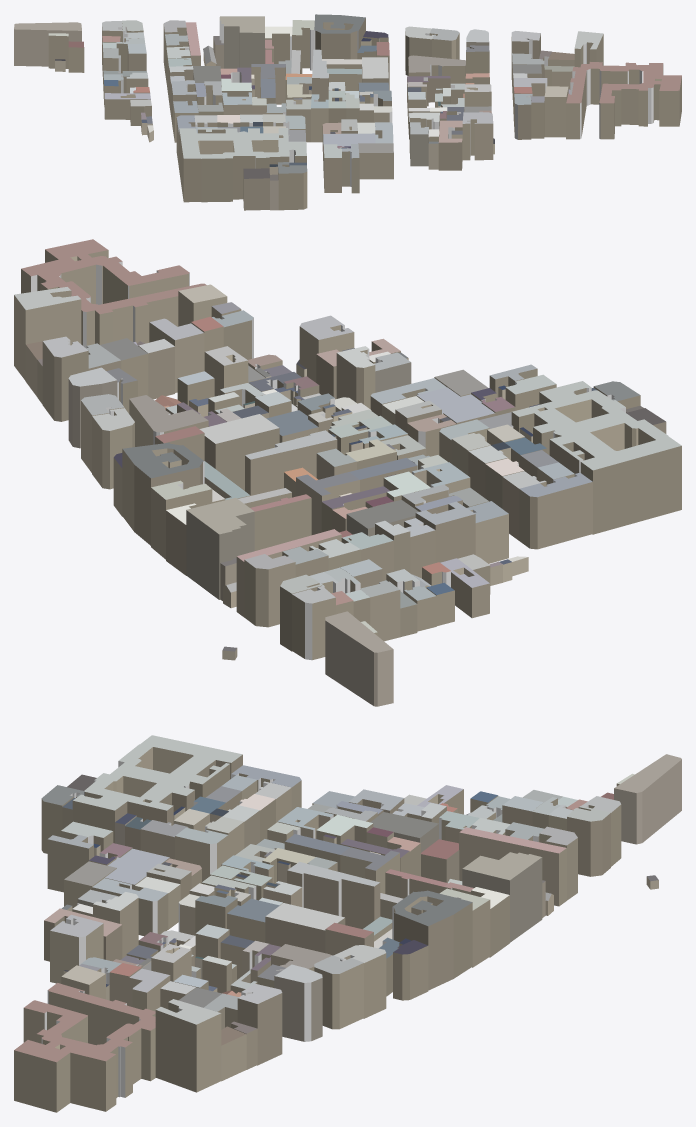
3 views of the same model, one above another, from view 1: azimuth 30°, elevation 25°; view 2: azimuth 150°, elevation 25°; view 3: azimuth 270°, elevation 25° (orthographic). The views are drawn at different scales.
Visible parts, largest first — view 1: tuile; view 2: tuile; view 3: tuile.
Part boxes in pixels (x1,y1,x2,y2): tuile: (14, 14, 681, 210); tuile: (14, 239, 681, 706); tuile: (14, 735, 681, 1112).
Size of the model in its own units: 304 by 33.9 by 269.
